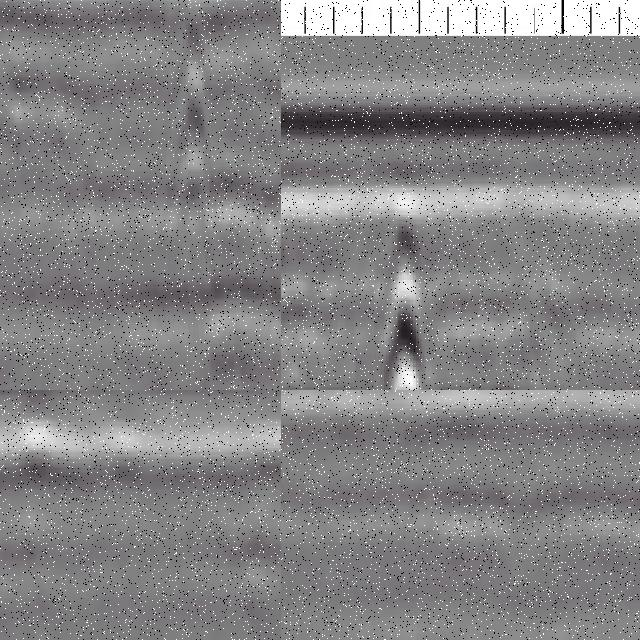crack: (370, 193, 437, 391), (164, 11, 207, 269)
